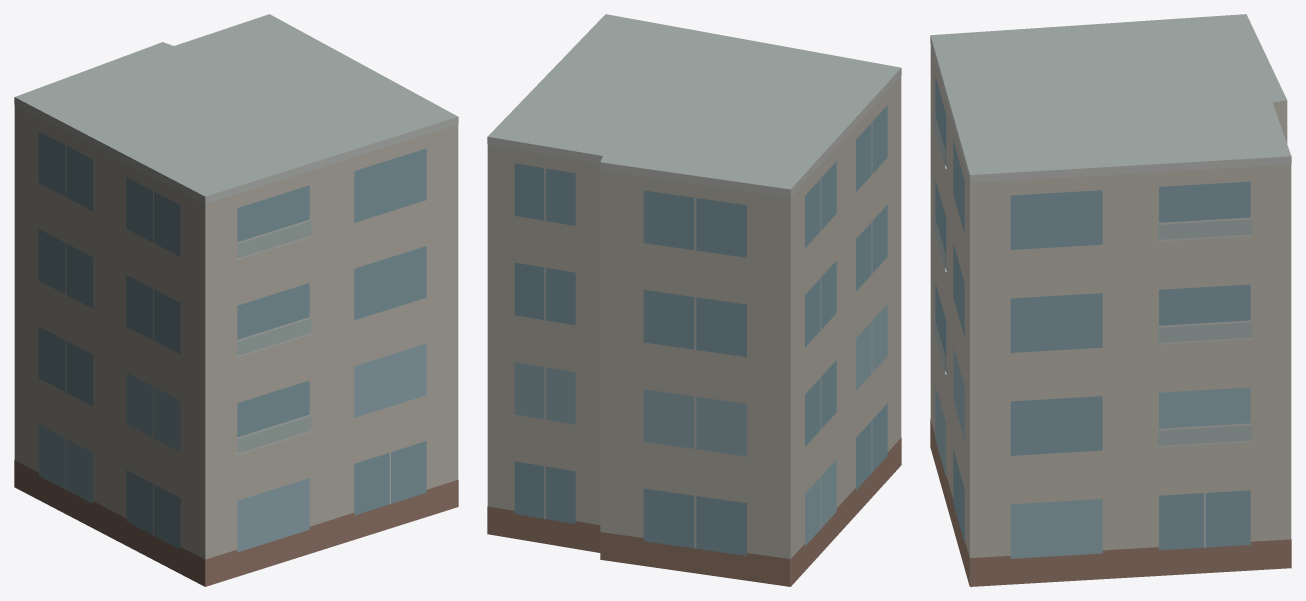
Rendered from survey-upis-33037501.glb.
The picture shows the model from 3 angles, left to right: view 1: azimuth 30°, elevation 25°; view 2: azimuth 150°, elevation 25°; view 3: azimuth 270°, elevation 25°; orthographic projection. The views are drawn at different scales.
Visible parts, largest first — view 1: survey-upis-33037501.tmp; view 2: survey-upis-33037501.tmp; view 3: survey-upis-33037501.tmp.
Part boxes in pixels (x1=…): survey-upis-33037501.tmp: x1=14, y1=14, x2=458, y2=586; survey-upis-33037501.tmp: x1=487, y1=14, x2=901, y2=586; survey-upis-33037501.tmp: x1=930, y1=14, x2=1291, y2=586.
Bounding box in the file's own units: 10.41 × 12.4 × 9.86.
